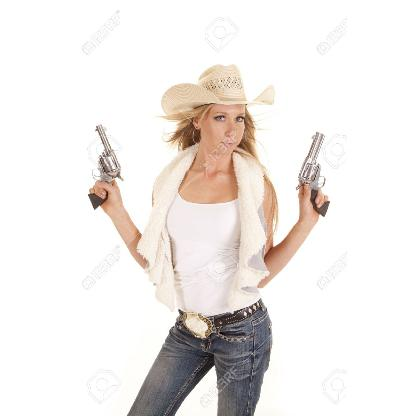gun: (294, 130, 332, 216), (84, 124, 122, 209)
